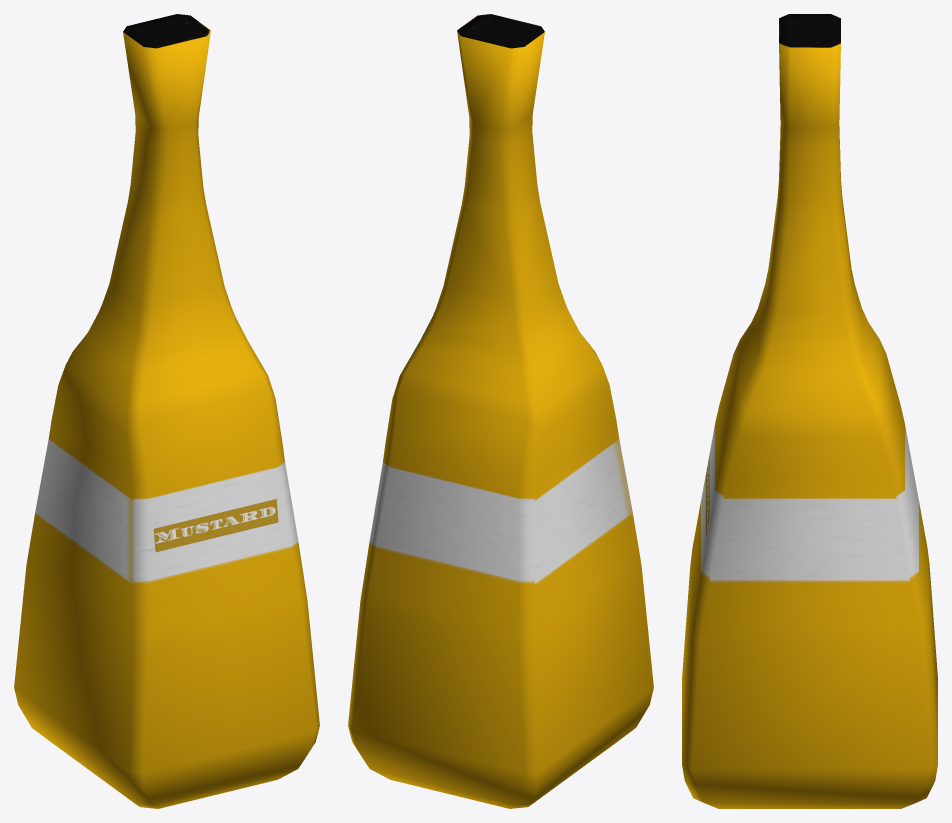
Rendered from Mustard Bottle.fbx.
The picture shows the model from 3 angles, left to right: view 1: azimuth 30°, elevation 25°; view 2: azimuth 150°, elevation 25°; view 3: azimuth 270°, elevation 25°; orthographic projection. The views are drawn at different scales.
Visible parts, largest first — view 1: Mustard_Bottle; view 2: Mustard_Bottle; view 3: Mustard_Bottle.
Part boxes in pixels (x1,y1,x2,y2): Mustard_Bottle: (14, 14, 319, 808); Mustard_Bottle: (348, 14, 653, 808); Mustard_Bottle: (682, 14, 937, 808).
Bounding box in the file's own units: 45.72 × 169 × 52.
Materials: 1 (1 with a texture image).
